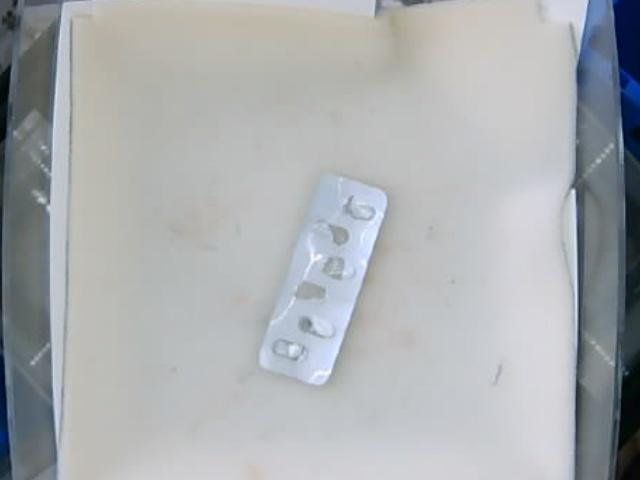Medicine: (261, 174, 385, 389)
